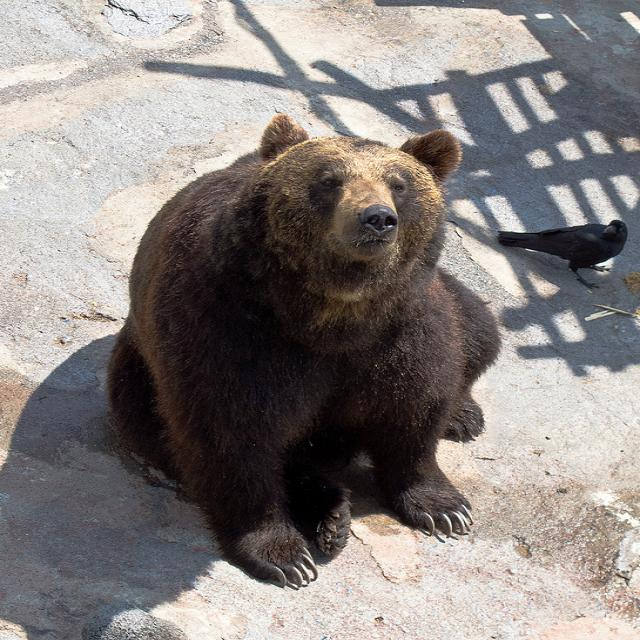Bear: (102, 112, 509, 589)
